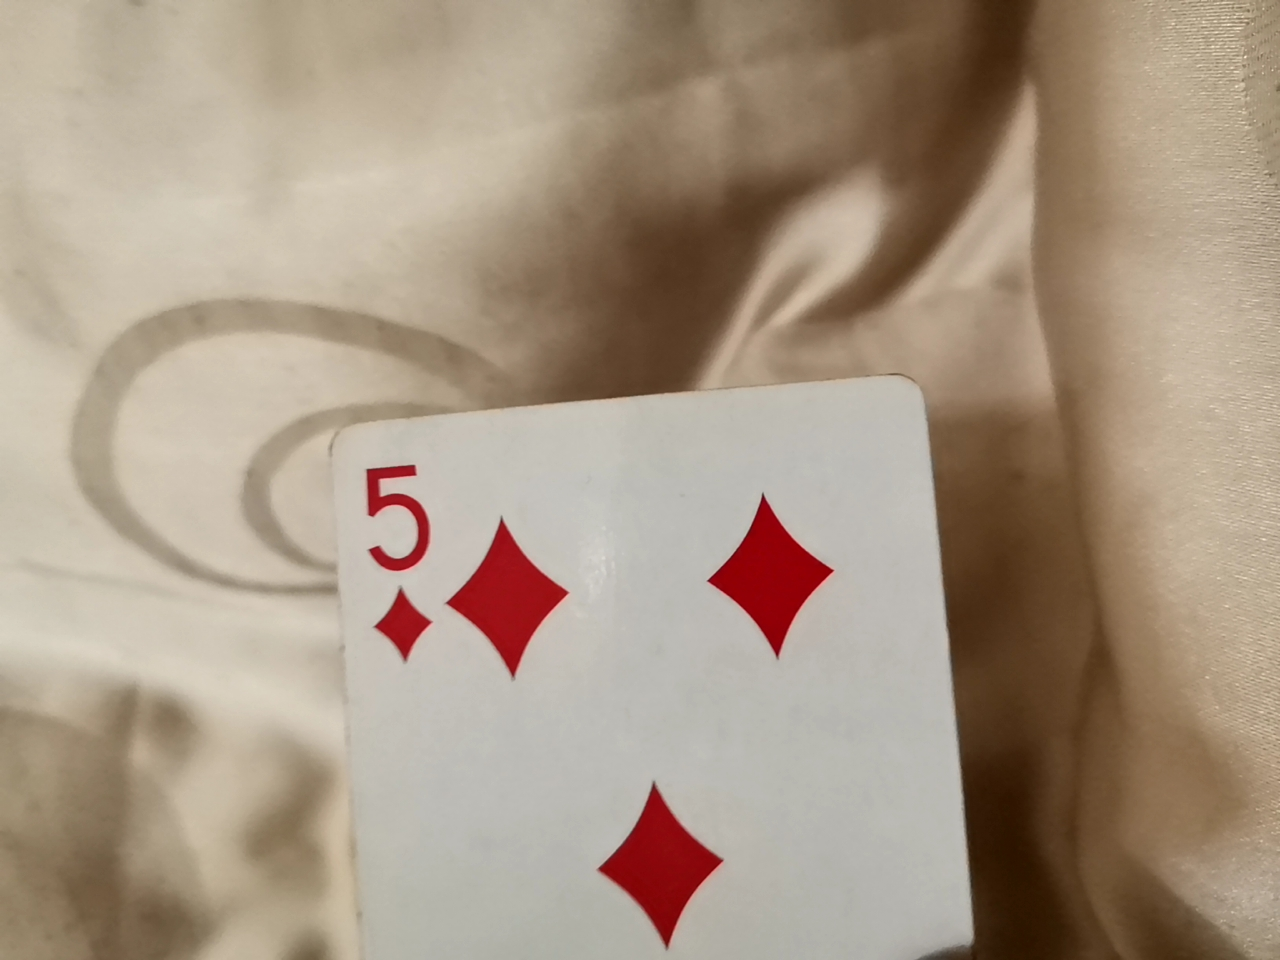fk 5: (275, 350, 958, 960)
